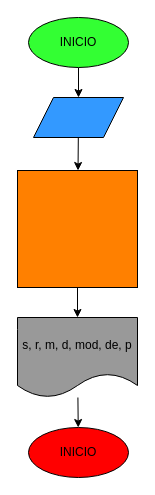
Image size: 155x495. Some labels were removed from this diagram. The shapes that lost their labels are listed below. From the top down, each one's centre as x and y in pixels, then its label:
At pixel 78 117: "x,y".
At pixel 77 229: "s = x + y r = x - y m = x * y d = x / y mod = x % y de = x // y p = x ** y".
